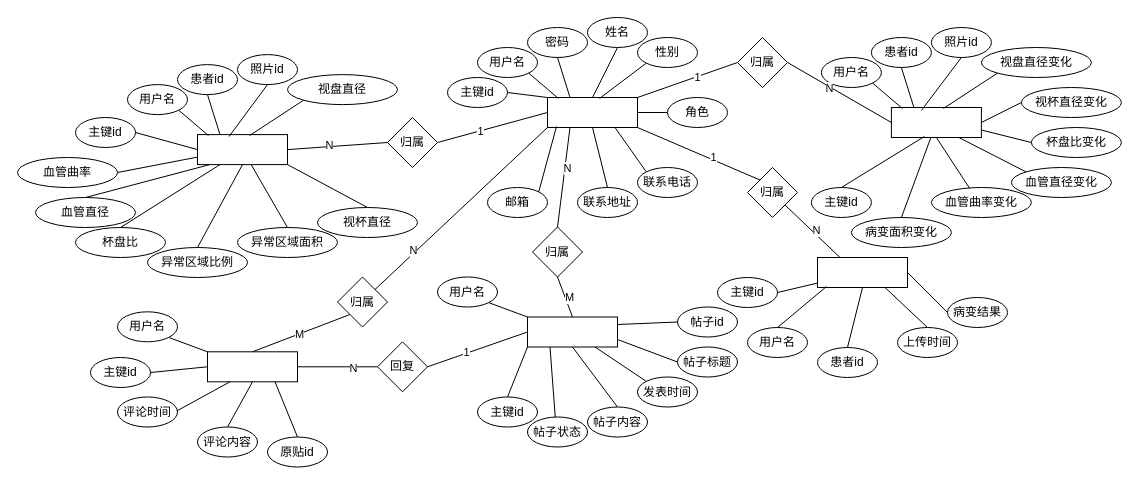
Some shapes in this 1139 by 485 pixel diagram are drawn without their labels. Each missing label, with the centre of its shape:
"分割信息" goes at (242,149).
"历史记录" goes at (862,272).
"用户信息" goes at (592,112).
"论坛信息" goes at (572,331).
"论坛评论信息" goes at (252,366).
"趋势信息" goes at (935,122).
